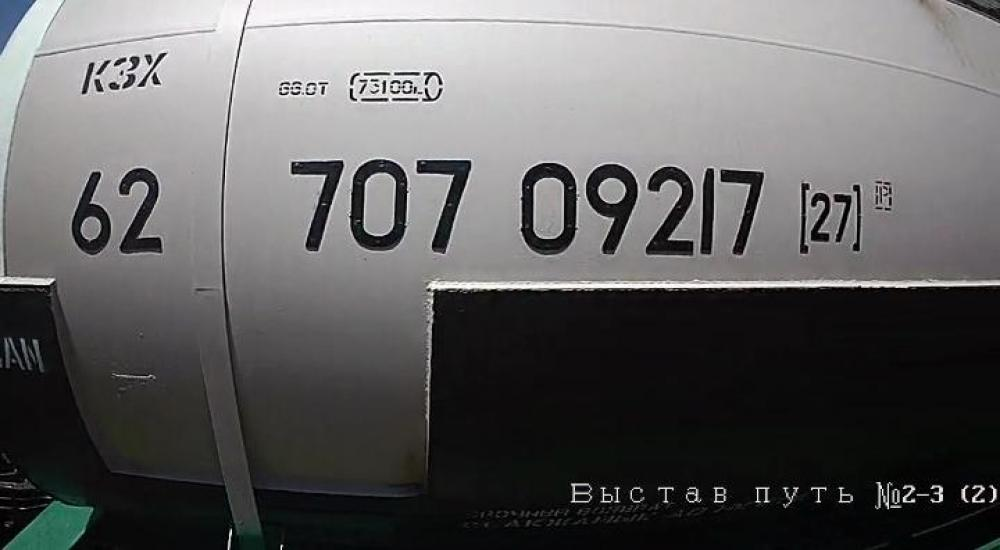Wagon-number: (286, 151, 770, 265)
